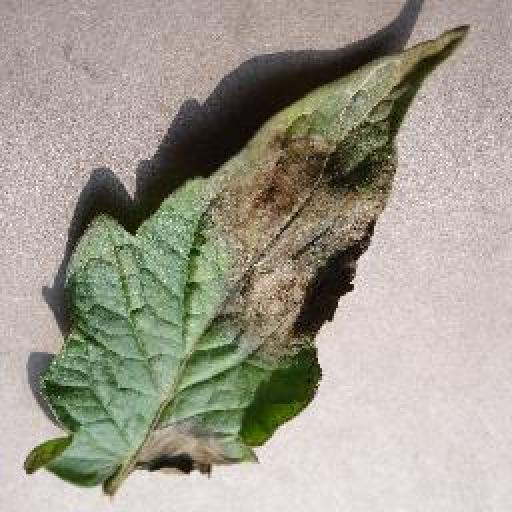disease_tomato: (24, 26, 471, 494)
